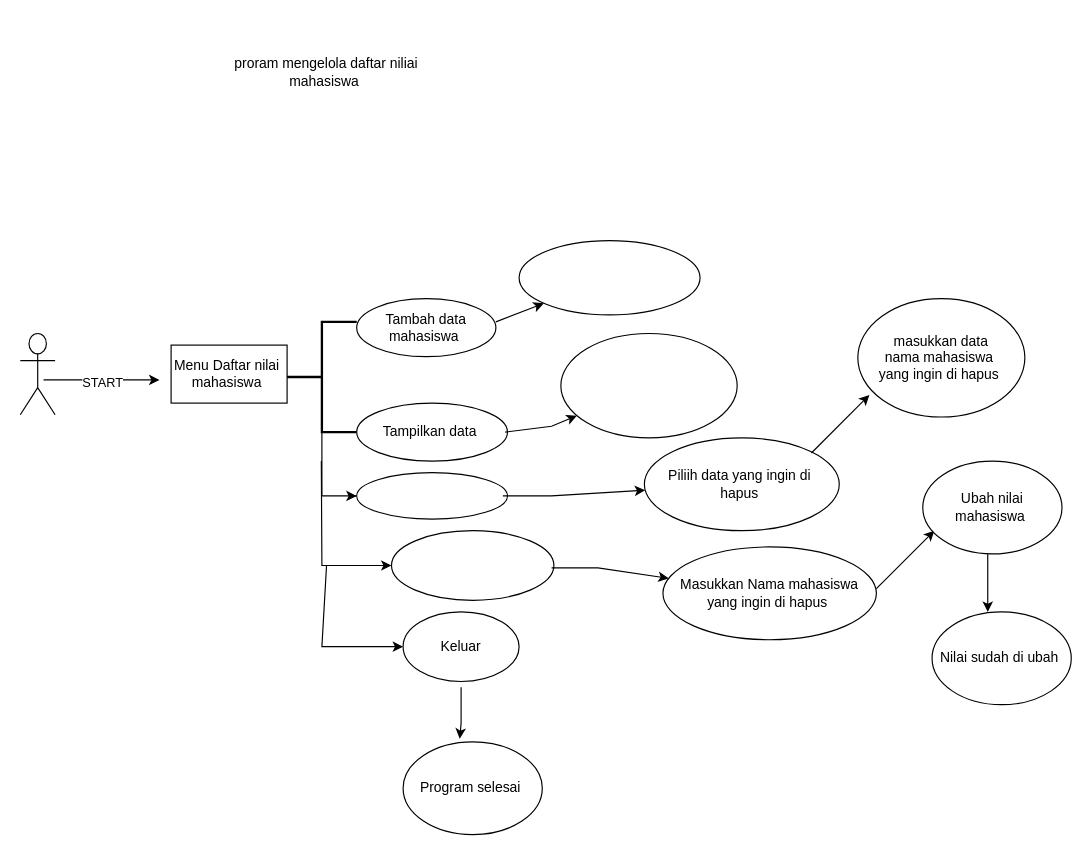
Some shapes in this 1092 by 855 pixel diagram are drawn without their labels. Here are the shapes that lost their labels. From the top down, the centre of each, then its label:
[609,277]: Masukkan nama dan Nilai
[37,373]: Actor
[648,385]: Menampilkan Nama dan nilai yang sudah di input
[431,495]: Hapus data mahasiswa
[472,565]: Ubah Data mahasiswa
